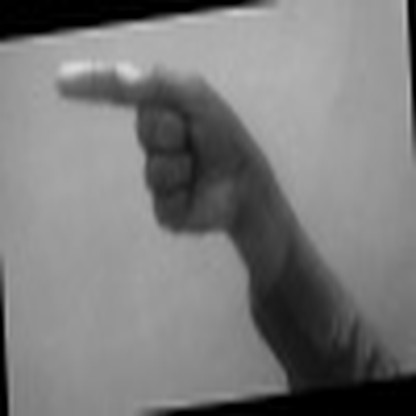g: (49, 50, 269, 238)
